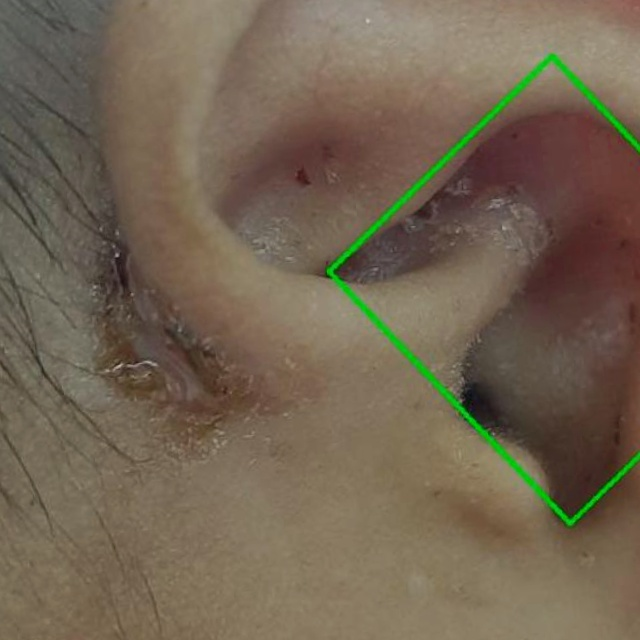Eczema: (291, 57, 639, 565)
